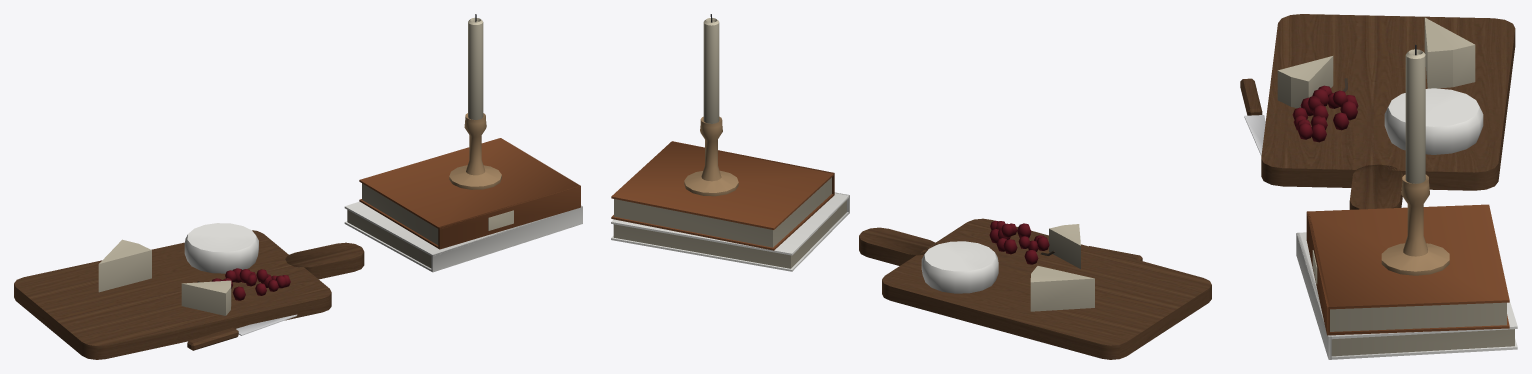
Rendered from decor_b_vignette_cheese.gltf.
3 views of the same model, side by side, from view 1: azimuth 30°, elevation 25°; view 2: azimuth 150°, elevation 25°; view 3: azimuth 270°, elevation 25° (orthographic). The views are drawn at different scales.
Parts seen in each view (by area): view 1: DecorBVignetteCheese_Walnut_NoCollide, DecorBVignetteCheese_Book02_Leather_NoCollide, DecorBVignetteCheese_Book01_PaperWhite_NoCollide, DecorBVignetteCheese_Label_NoCollide, DecorBVignetteCheese_PaperWhite_NoCollide, DecorBVignetteCheese_Candle01_Bronze_NoCollide, DecorBVignetteCheese_Book02_Label_NoCollide, DecorBVignetteCheese_Candle01_Label_NoCollide, DecorBVignetteCheese_Grapes01_Wine_NoCollide, DecorBVignetteCheese_Book01_Label_NoCollide, DecorBVignetteCheese_Knife01_Walnut_NoCollide; view 2: DecorBVignetteCheese_Walnut_NoCollide, DecorBVignetteCheese_Book02_Leather_NoCollide, DecorBVignetteCheese_Book02_Label_NoCollide, DecorBVignetteCheese_Label_NoCollide, DecorBVignetteCheese_PaperWhite_NoCollide, DecorBVignetteCheese_Book01_Label_NoCollide, DecorBVignetteCheese_Book01_PaperWhite_NoCollide, DecorBVignetteCheese_Candle01_Bronze_NoCollide, DecorBVignetteCheese_Candle01_Label_NoCollide, DecorBVignetteCheese_Grapes01_Wine_NoCollide; view 3: DecorBVignetteCheese_Walnut_NoCollide, DecorBVignetteCheese_Book02_Leather_NoCollide, DecorBVignetteCheese_Label_NoCollide, DecorBVignetteCheese_PaperWhite_NoCollide, DecorBVignetteCheese_Book02_Label_NoCollide, DecorBVignetteCheese_Book01_Label_NoCollide, DecorBVignetteCheese_Candle01_Bronze_NoCollide, DecorBVignetteCheese_Book01_PaperWhite_NoCollide, DecorBVignetteCheese_Candle01_Label_NoCollide, DecorBVignetteCheese_Grapes01_Wine_NoCollide, DecorBVignetteCheese_Knife01_Walnut_NoCollide, DecorBVignetteCheese_Knife01_Steel_NoCollide.
Boxes of the visible parts, x1,y1,x2,y2 form: DecorBVignetteCheese_Walnut_NoCollide: (14, 230, 364, 359); DecorBVignetteCheese_Book02_Leather_NoCollide: (359, 138, 580, 249); DecorBVignetteCheese_Book01_PaperWhite_NoCollide: (344, 201, 582, 272); DecorBVignetteCheese_Label_NoCollide: (98, 239, 231, 315); DecorBVignetteCheese_PaperWhite_NoCollide: (184, 223, 258, 273); DecorBVignetteCheese_Candle01_Bronze_NoCollide: (449, 113, 501, 189); DecorBVignetteCheese_Book02_Label_NoCollide: (362, 183, 513, 244); DecorBVignetteCheese_Candle01_Label_NoCollide: (468, 17, 483, 119); DecorBVignetteCheese_Grapes01_Wine_NoCollide: (212, 268, 290, 300); DecorBVignetteCheese_Book01_Label_NoCollide: (347, 210, 431, 267); DecorBVignetteCheese_Knife01_Walnut_NoCollide: (187, 327, 238, 350); DecorBVignetteCheese_Walnut_NoCollide: (859, 218, 1211, 359); DecorBVignetteCheese_Book02_Leather_NoCollide: (611, 141, 834, 250); DecorBVignetteCheese_Book02_Label_NoCollide: (614, 177, 831, 247); DecorBVignetteCheese_Label_NoCollide: (1030, 224, 1094, 311); DecorBVignetteCheese_PaperWhite_NoCollide: (921, 241, 998, 293); DecorBVignetteCheese_Book01_Label_NoCollide: (613, 200, 846, 268); DecorBVignetteCheese_Book01_PaperWhite_NoCollide: (611, 192, 849, 271); DecorBVignetteCheese_Candle01_Bronze_NoCollide: (684, 116, 738, 196); DecorBVignetteCheese_Candle01_Label_NoCollide: (703, 18, 719, 123); DecorBVignetteCheese_Grapes01_Wine_NoCollide: (989, 220, 1049, 264); DecorBVignetteCheese_Walnut_NoCollide: (1261, 14, 1515, 209); DecorBVignetteCheese_Book02_Leather_NoCollide: (1306, 204, 1509, 335); DecorBVignetteCheese_Label_NoCollide: (1277, 17, 1475, 108); DecorBVignetteCheese_PaperWhite_NoCollide: (1384, 88, 1483, 154); DecorBVignetteCheese_Book02_Label_NoCollide: (1312, 250, 1506, 331); DecorBVignetteCheese_Book01_Label_NoCollide: (1331, 329, 1514, 356); DecorBVignetteCheese_Candle01_Bronze_NoCollide: (1381, 174, 1449, 275); DecorBVignetteCheese_Book01_PaperWhite_NoCollide: (1296, 232, 1517, 359); DecorBVignetteCheese_Candle01_Label_NoCollide: (1405, 49, 1425, 183); DecorBVignetteCheese_Grapes01_Wine_NoCollide: (1292, 85, 1358, 142); DecorBVignetteCheese_Knife01_Walnut_NoCollide: (1240, 78, 1262, 115); DecorBVignetteCheese_Knife01_Steel_NoCollide: (1244, 115, 1265, 155).
Size of the model in its own units: 0.8486 by 0.3229 by 0.3038.
9 materials, 2 textured.
